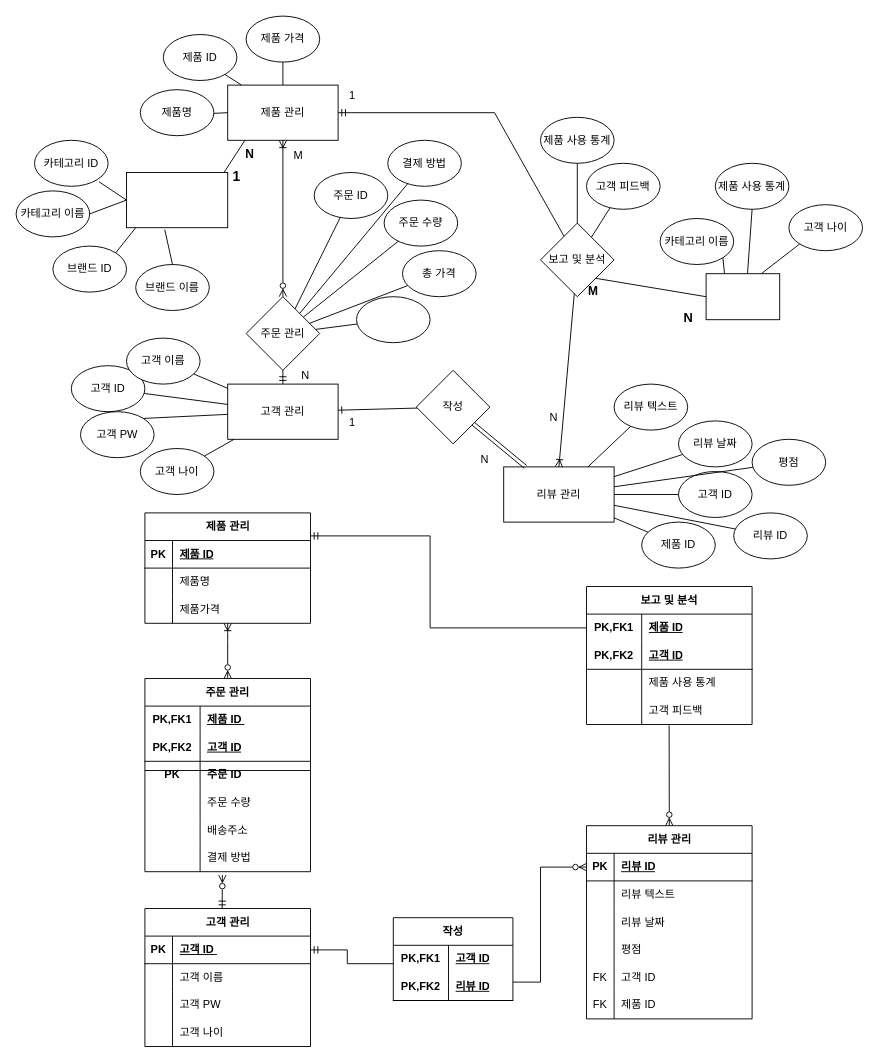
The diagram is 879 pixels wide and 1063 high, and some of its shapes have lost their labels. Here are the shapes that lost their labels. From the top down, the centre of each, then its label:
point 177,200: 카테고리 및 브랜드 관리
point 742,296: 개인화
point 393,319: 배송 주소
